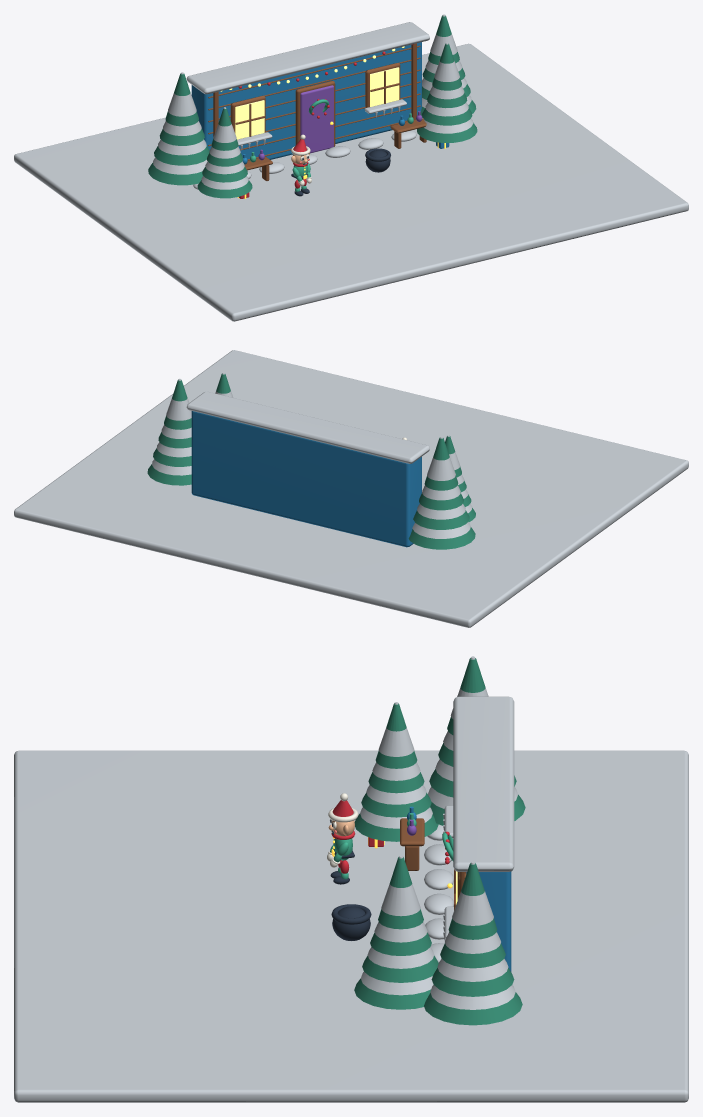
The model's file is chapter-08.glb.
3 views of the same model, one above another, from view 1: azimuth 30°, elevation 25°; view 2: azimuth 150°, elevation 25°; view 3: azimuth 270°, elevation 25° (orthographic). The views are drawn at different scales.
Parts seen in each view (by area): view 1: Schneeboden, Werkstatt, Schneegesims, Wichteltür, Warmes Fenster, Warmes Fenster.001, Tannenzweig.008, Tannenzweig.009, Tannenzweig.004, Türrahmen, Tannenzweig.011, Schnee.011 (+6 smaller); view 2: Schneeboden, Werkstatt, Schneegesims, Tannenzweig.008, Tannenzweig.009, Tannenzweig.011, Schnee.008, Schnee.011, Tannenzweig.015, Tannenzweig.012, Tannenzweig.010, Schnee.009 (+1 smaller); view 3: Schneeboden, Schneegesims, Werkstatt, Tannenzweig.012, Tannenzweig.013, Tannenzweig.015, Schnee.012, Tannenzweig.005, Tannenzweig.004, Schnee.015, Tannenzweig.007, Schnee.013 (+15 smaller).
Boxes of the visible parts, x1,y1,x2,y2 form: Schneeboden: (14,43,688,321); Werkstatt: (191,42,421,159); Schneegesims: (186,22,429,94); Wichteltür: (300,85,333,153); Warmes Fenster: (235,100,264,139); Warmes Fenster.001: (370,67,399,106); Tannenzweig.008: (148,163,202,185); Tannenzweig.009: (154,146,209,165); Tannenzweig.004: (417,122,477,142); Türrahmen: (295,81,335,146); Tannenzweig.011: (165,73,198,126); Schnee.011: (168,72,196,116); Schneeboden: (14,350,688,627); Werkstatt: (191,411,421,547); Schneegesims: (186,391,429,463); Tannenzweig.008: (408,527,475,549); Tannenzweig.009: (413,510,469,529); Tannenzweig.011: (424,437,458,490); Schnee.008: (412,522,470,538); Schnee.011: (427,436,455,480); Tannenzweig.015: (164,380,191,429); Tannenzweig.012: (147,464,191,485); Tannenzweig.010: (419,493,463,510); Schnee.009: (417,504,465,519); Schneeboden: (14,750,688,1102); Schneegesims: (453,696,514,871); Werkstatt: (466,871,511,971); Tannenzweig.012: (424,992,522,1025); Tannenzweig.013: (431,968,514,996); Tannenzweig.015: (448,863,497,939); Schnee.012: (430,985,515,1009); Tannenzweig.005: (362,955,438,982); Tannenzweig.004: (354,978,430,1009); Schnee.015: (452,861,493,925); Tannenzweig.007: (378,857,423,929); Schnee.013: (437,959,508,981).
Bounding box in the file's own units: 18 × 4.39 × 15.
